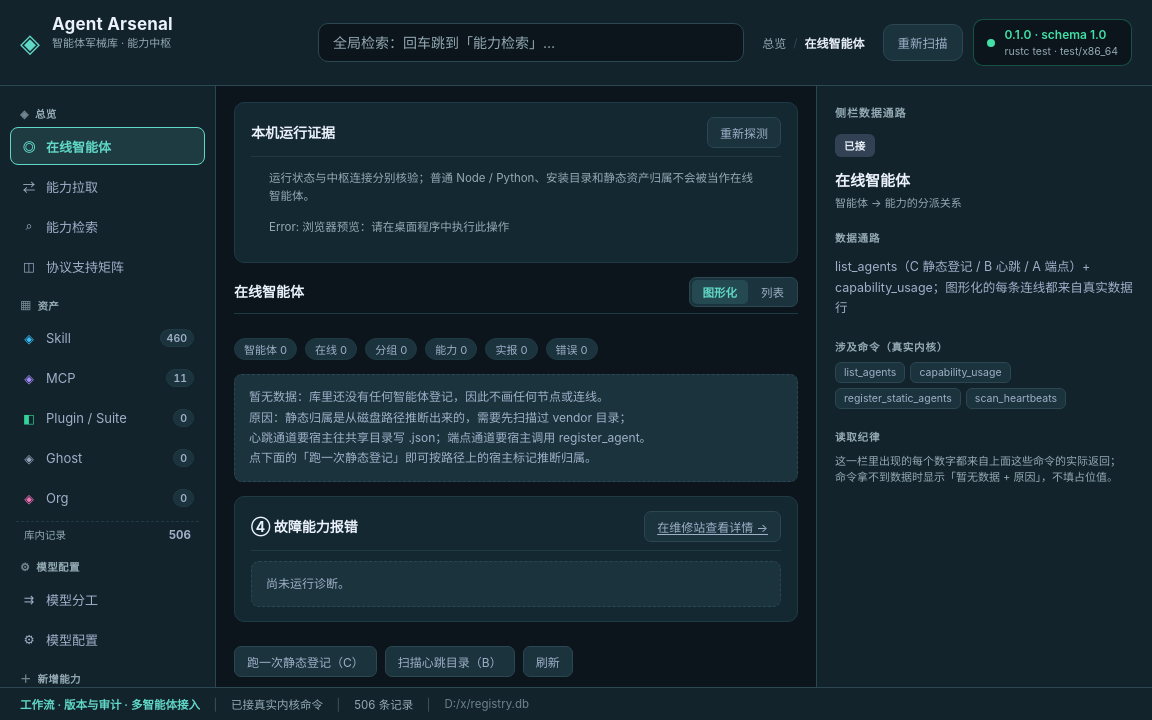
Test: App · 一条侧栏里的分区 → 侧栏 › 能力检索侧栏：五种检索方式都在且有真实执行入口
Expected: the button with class "nav-item" showing "◎ 在线智能体" is shown, [10,127,205,165]
Click the button with class "nav-item" showing "⌕ 能力检索". click: (108, 226)
box: [10,207,205,245]
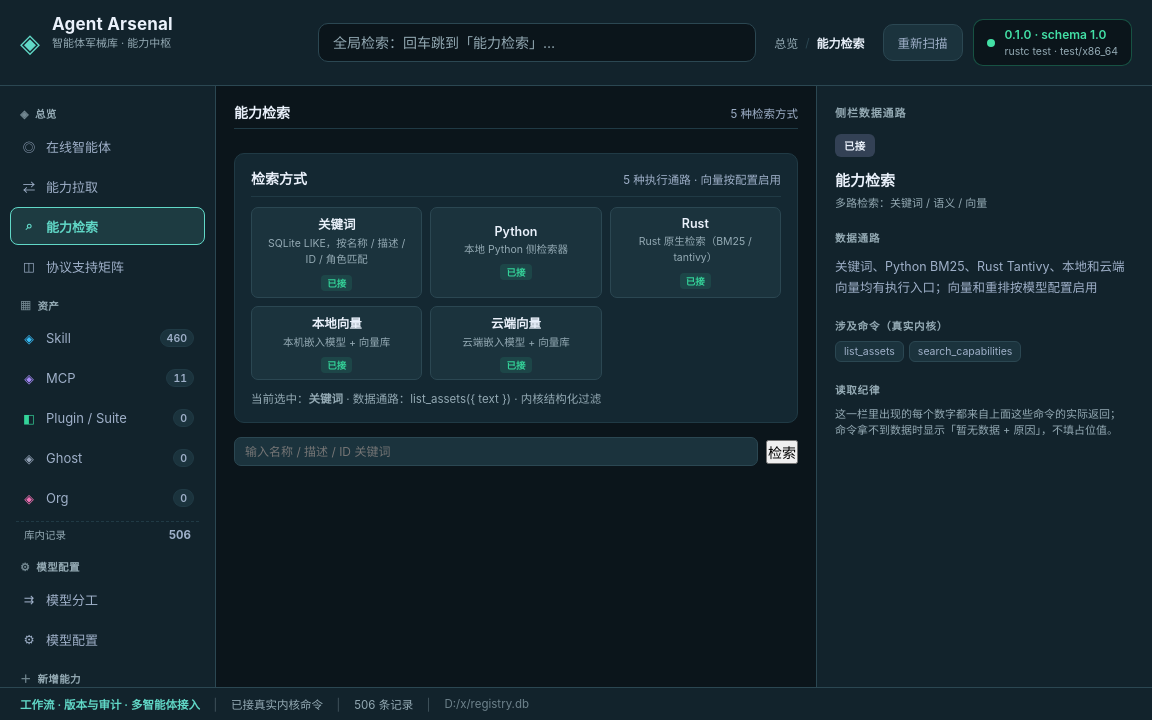
Expected: the number of buttons with class "mode-card" is 5, [251,207,422,298]; [430,207,602,298]; [610,207,781,298]; [251,306,422,380]; [430,306,602,380]
Expected: the text "5 种执行通路 · 向量按配置启用" is shown, [623,171,781,187]
